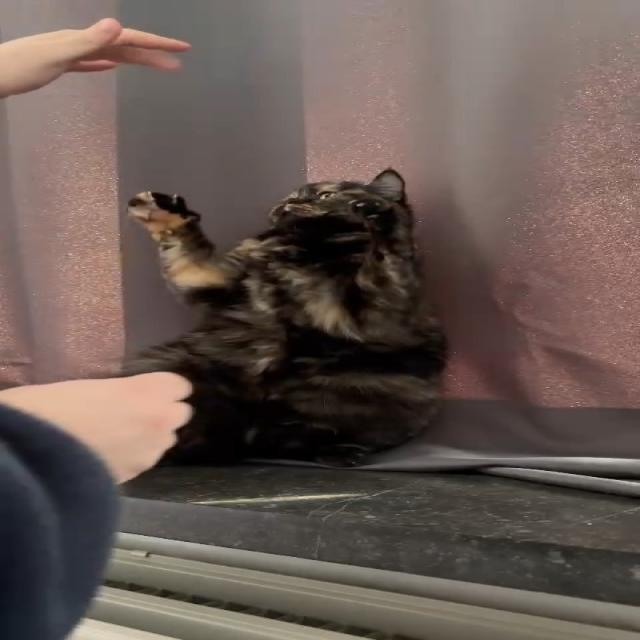authorized: (116, 166, 451, 468)
